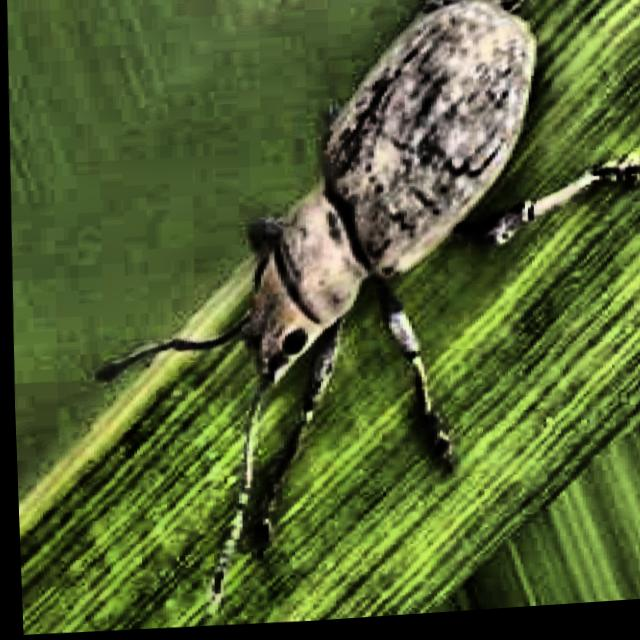Stink bug: (106, 0, 623, 514)
